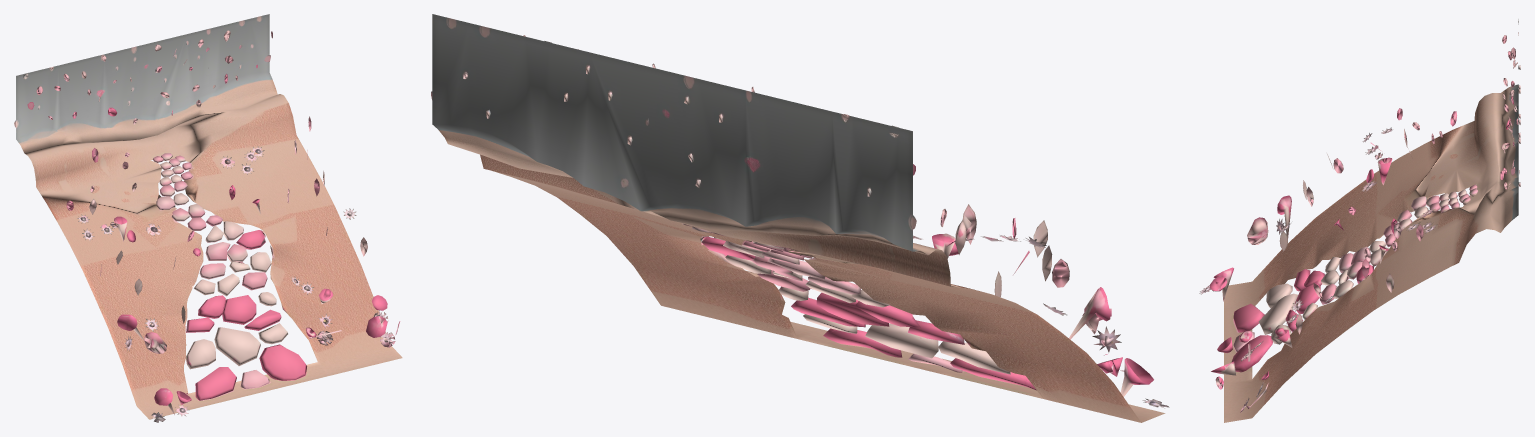
File: dreamy-pink-landscape.glb
The picture shows the model from 3 angles, left to right: view 1: azimuth 30°, elevation 25°; view 2: azimuth 150°, elevation 25°; view 3: azimuth 270°, elevation 25°; orthographic projection. The views are drawn at different scales.
Visible parts, largest first — view 1: tripo_node_98644f06-6ca9-488f-bfe2-6c10ab18436f; view 2: tripo_node_98644f06-6ca9-488f-bfe2-6c10ab18436f; view 3: tripo_node_98644f06-6ca9-488f-bfe2-6c10ab18436f.
Boxes of the visible parts, x1,y1,x2,y2 form: tripo_node_98644f06-6ca9-488f-bfe2-6c10ab18436f: [14, 14, 402, 422]; tripo_node_98644f06-6ca9-488f-bfe2-6c10ab18436f: [431, 14, 1169, 422]; tripo_node_98644f06-6ca9-488f-bfe2-6c10ab18436f: [1199, 19, 1520, 422].
Size of the model in its own units: 0.998 by 0.9277 by 0.9825.
Materials: 1 (1 with a texture image).
